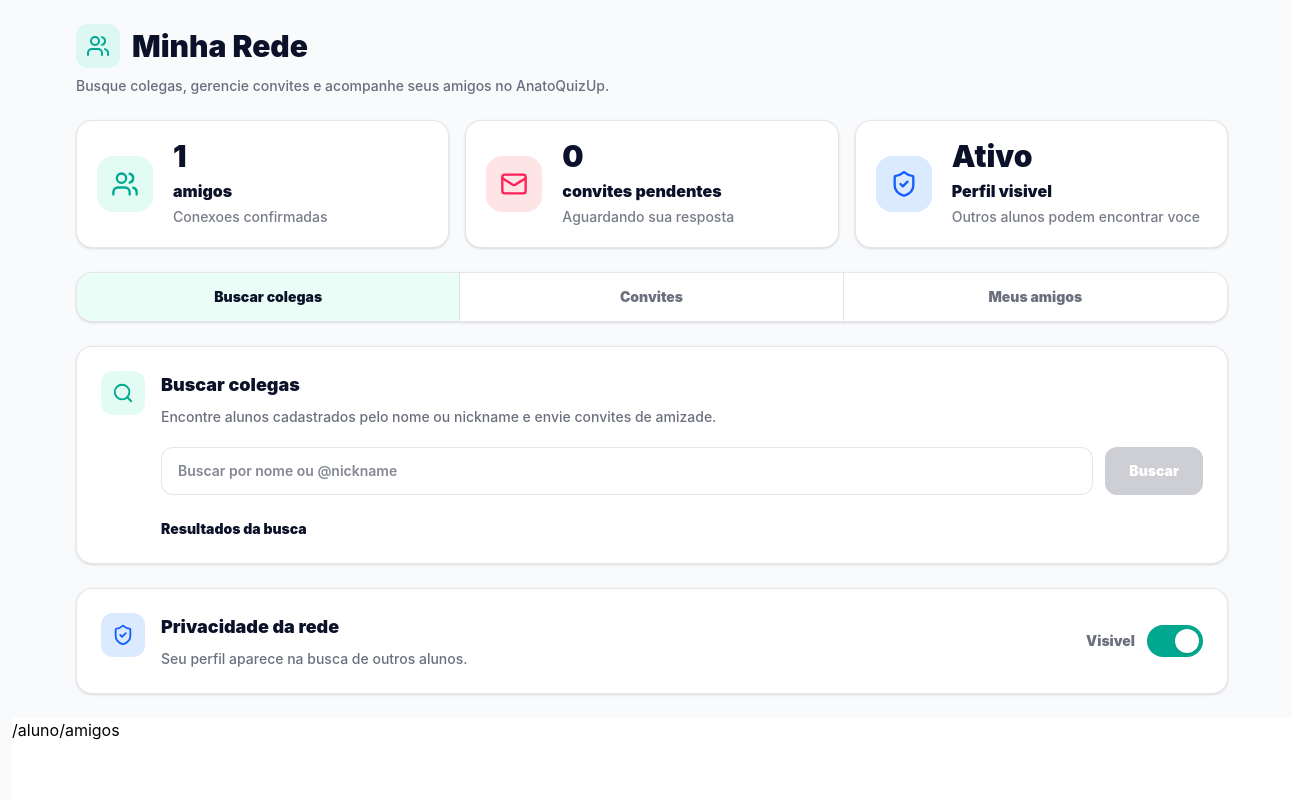
it: AmigosPage › busca colega por nome e envia solicitacao
The image size is (1292, 800).
Type "Rafael" into the field named "Buscar por nome ou nickname".
click(627, 471); type("Rafael")  # box [161,447,1093,495]
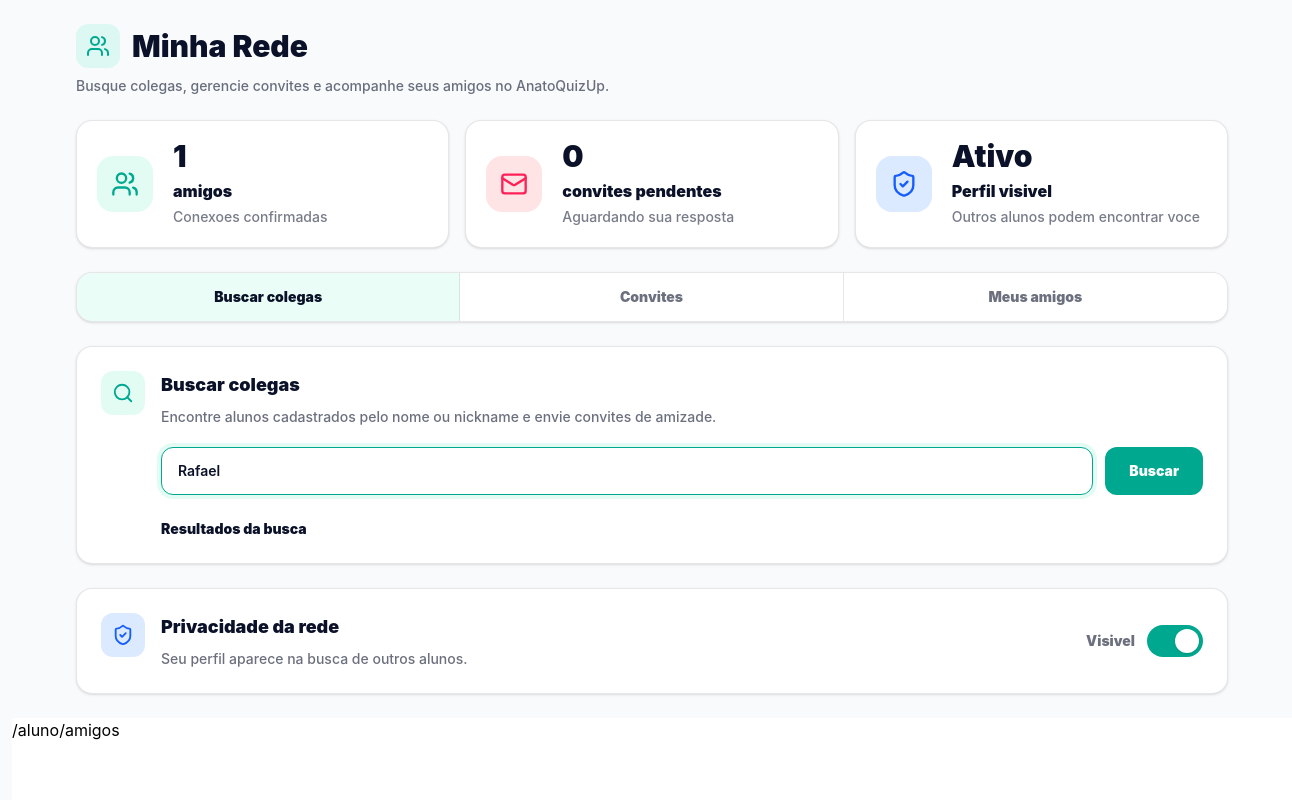
Click the button "Buscar".
click(1154, 471)  # box [1105,447,1203,495]
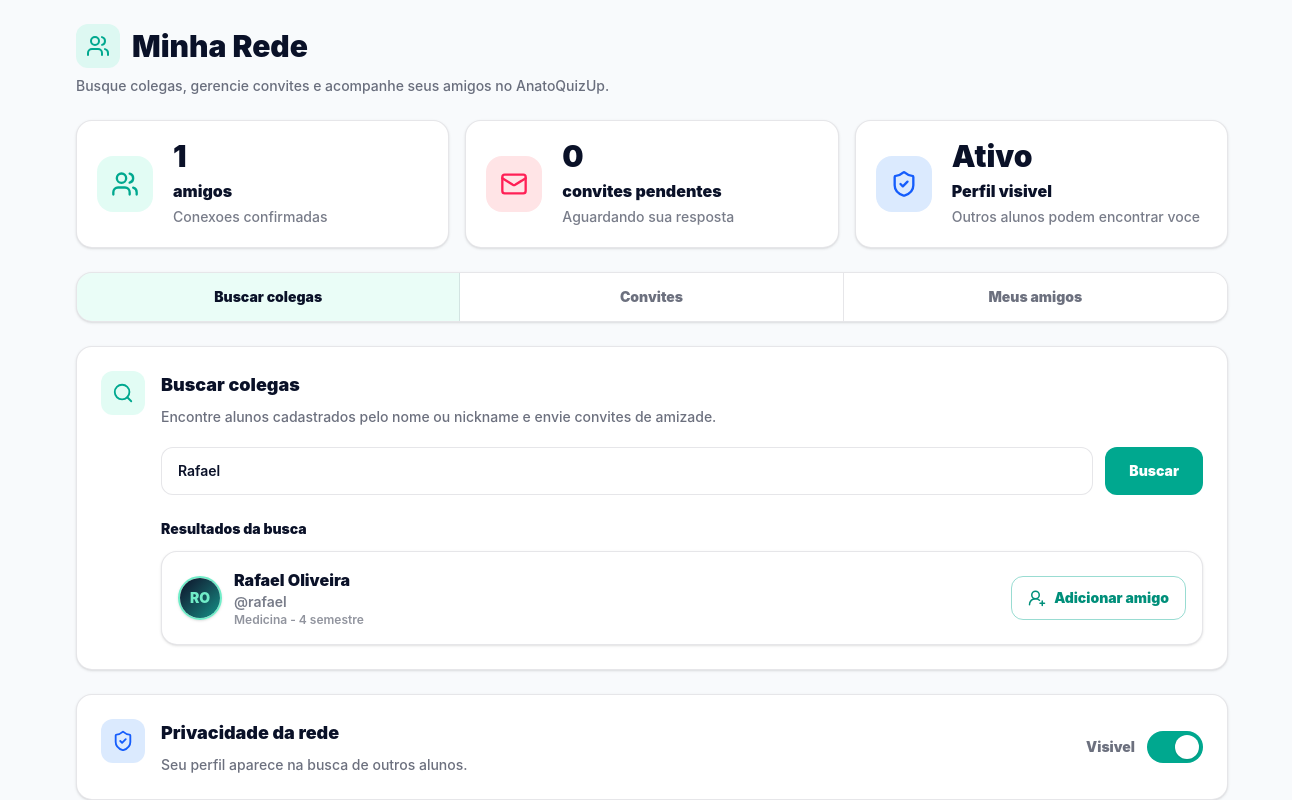
Click the button "Adicionar amigo".
click(1099, 598)  # box [1011,576,1186,620]
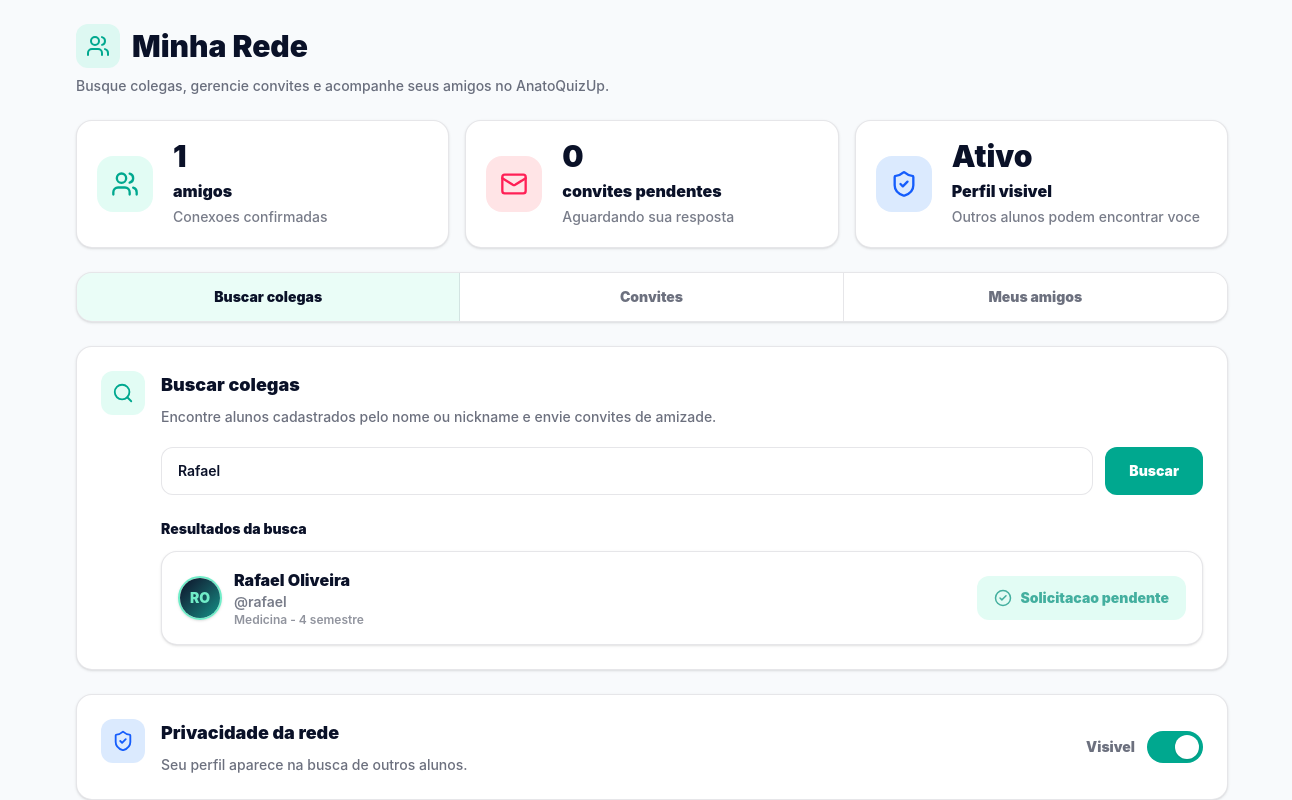
Check: the button "Solicitacao pendente" is shown, box [977,576,1186,620]
